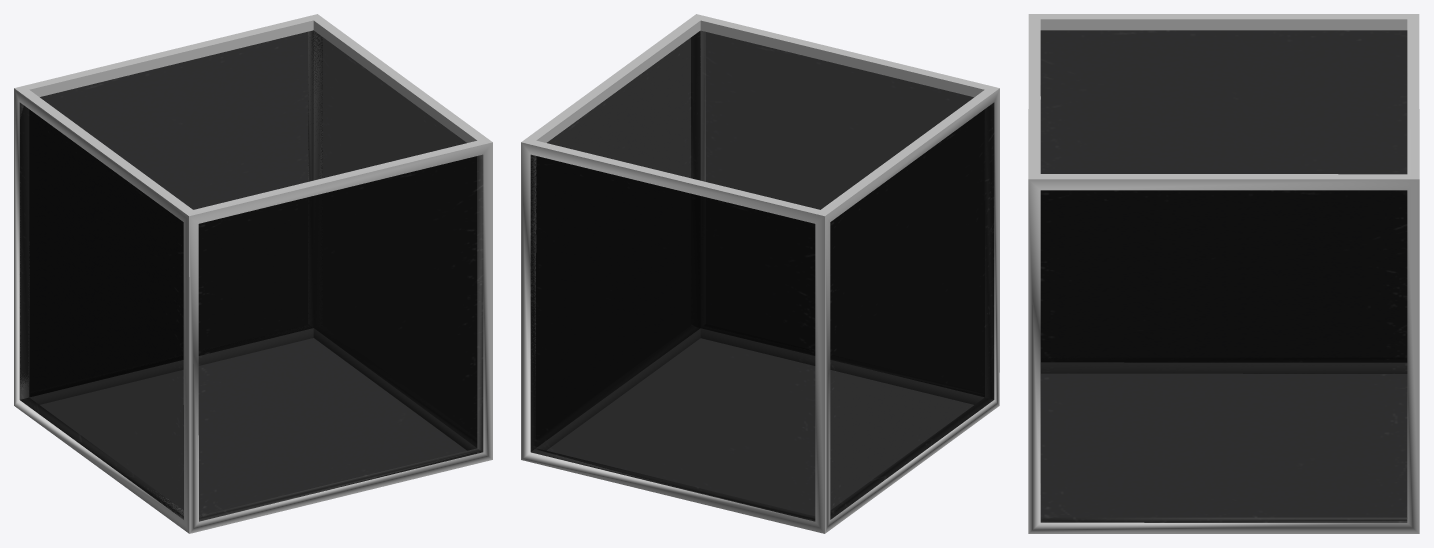
The model's file is glass_2x2x2.fbx.
3 renders of one model, left to right at view 1: azimuth 30°, elevation 25°; view 2: azimuth 150°, elevation 25°; view 3: azimuth 270°, elevation 25°, orthographic. The views are drawn at different scales.
Parts seen in each view (by area): view 1: glass_2x2x2; view 2: glass_2x2x2; view 3: glass_2x2x2.
Boxes of the visible parts, x1,y1,x2,y2 form: glass_2x2x2: [14, 14, 492, 533]; glass_2x2x2: [521, 14, 999, 533]; glass_2x2x2: [1028, 14, 1419, 533].
Bounding box in the file's own units: 80.03 × 80 × 80.
